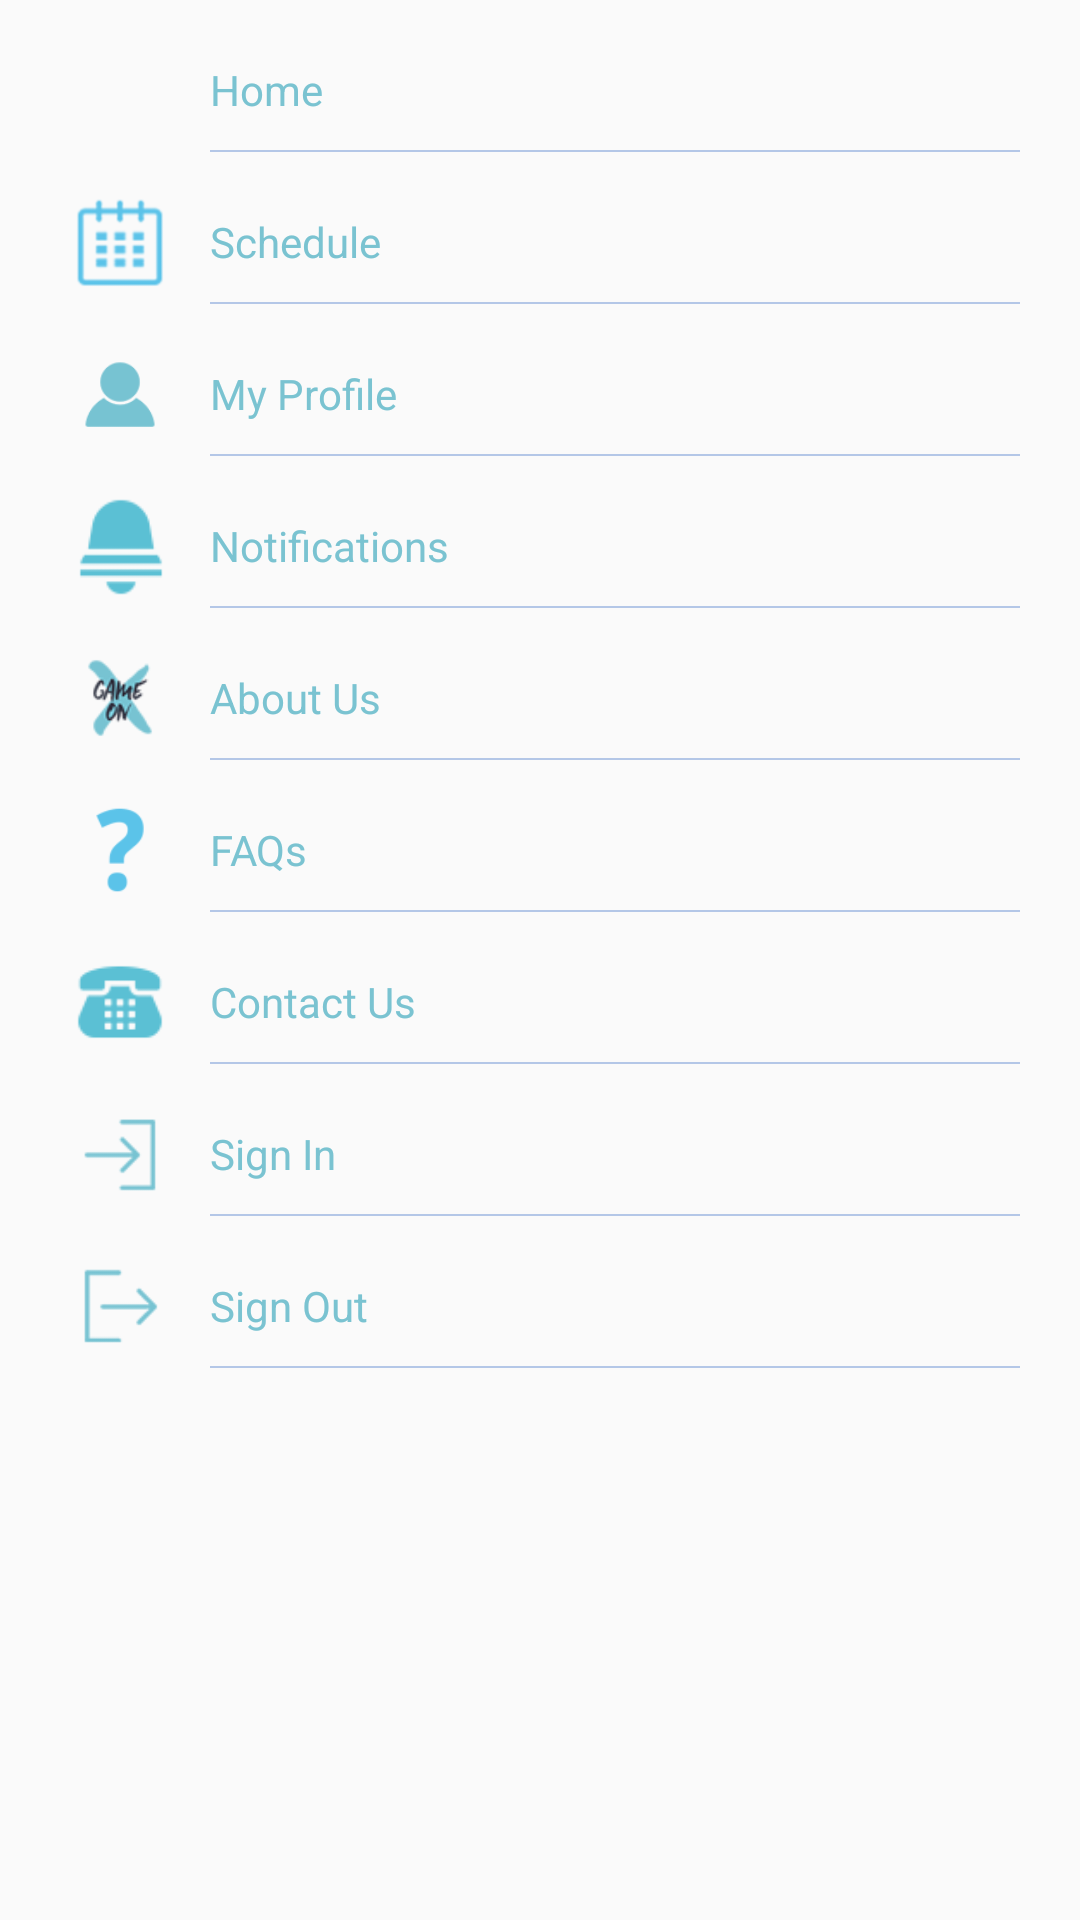

Locate icon controls on the screen. Image size 1080x1920, boxes as (x1, y1, x2, y2).
date: (77, 200, 163, 286)
faq: (96, 808, 144, 892)
noti menu: (80, 500, 162, 594)
profile menu: (85, 362, 155, 427)
